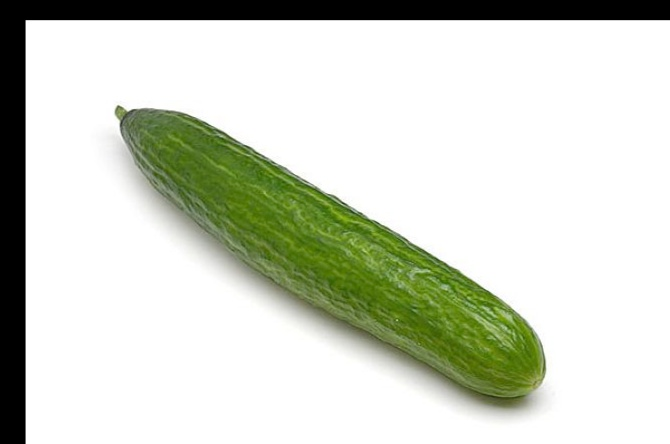cucumber: (111, 101, 543, 395)
